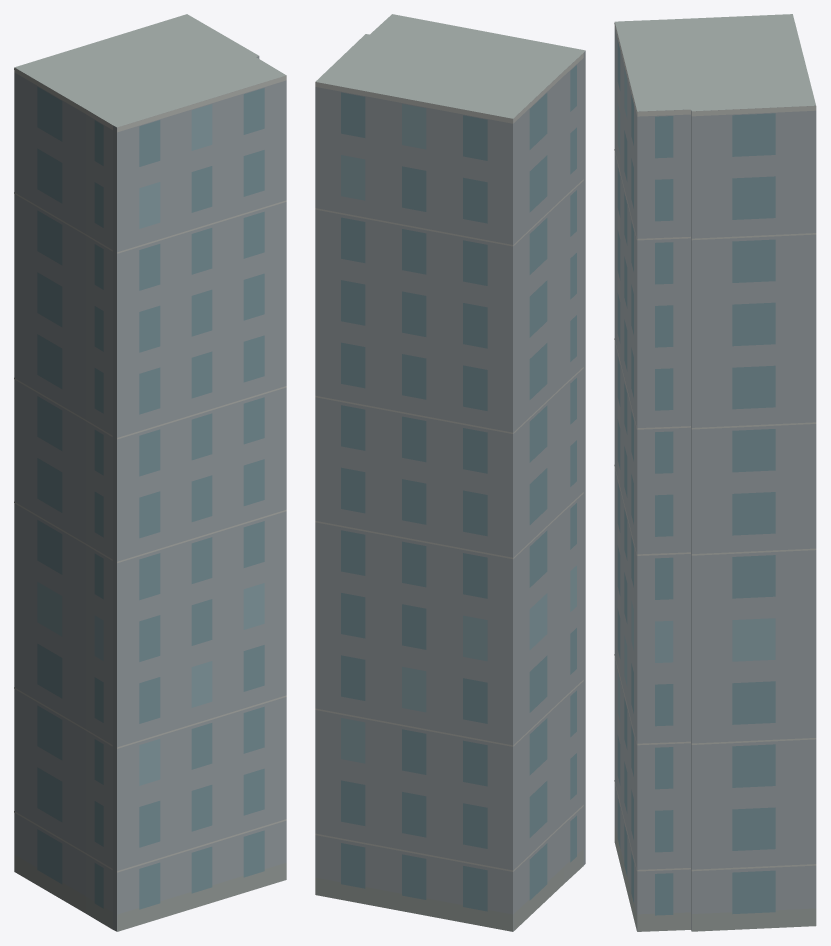
Rendered from survey-upis-32917999.glb.
3 renders of one model, left to right at view 1: azimuth 30°, elevation 25°; view 2: azimuth 150°, elevation 25°; view 3: azimuth 270°, elevation 25°, orthographic.
Visible parts, largest first — view 1: survey-upis-32917999.tmp; view 2: survey-upis-32917999.tmp; view 3: survey-upis-32917999.tmp.
Boxes of the visible parts, x1,y1,x2,y2 form: survey-upis-32917999.tmp: (14, 14, 286, 931); survey-upis-32917999.tmp: (315, 14, 585, 931); survey-upis-32917999.tmp: (614, 14, 816, 931).
Bounding box in the file's own units: 10.13 × 39.65 × 8.85.
